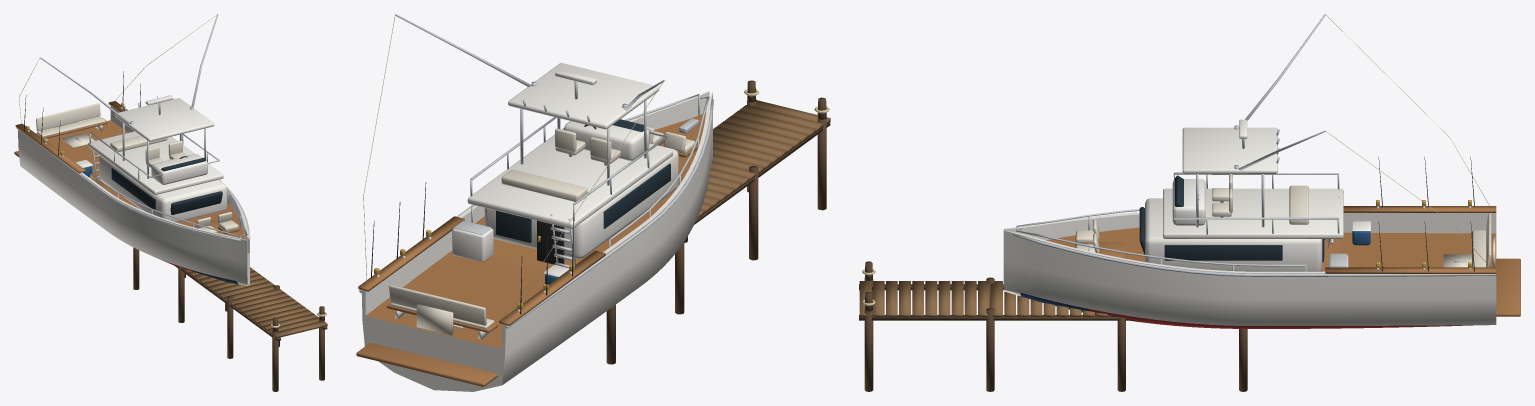
File: charter.glb
3 renders of one model, left to right at view 1: azimuth 30°, elevation 25°; view 2: azimuth 150°, elevation 25°; view 3: azimuth 270°, elevation 25°, orthographic. The views are drawn at different scales.
Parts seen in each view (by area): view 1: charter_boat, charter_pier, charter_outriggers; view 2: charter_boat, charter_pier, charter_outriggers; view 3: charter_boat, charter_pier, charter_outriggers.
Part boxes in pixels (<box>): charter_boat: <box>14,71,250,285</box>; charter_pier: <box>133,247,327,391</box>; charter_outriggers: <box>19,14,218,124</box>; charter_boat: <box>356,63,713,391</box>; charter_pier: <box>606,80,830,364</box>; charter_outriggers: <box>363,14,664,316</box>; charter_boat: <box>1003,119,1520,328</box>; charter_pier: <box>859,261,1247,391</box>; charter_outriggers: <box>1234,14,1489,266</box>.
Bounding box in the file's own units: 8.44 × 10.17 × 20.15.
